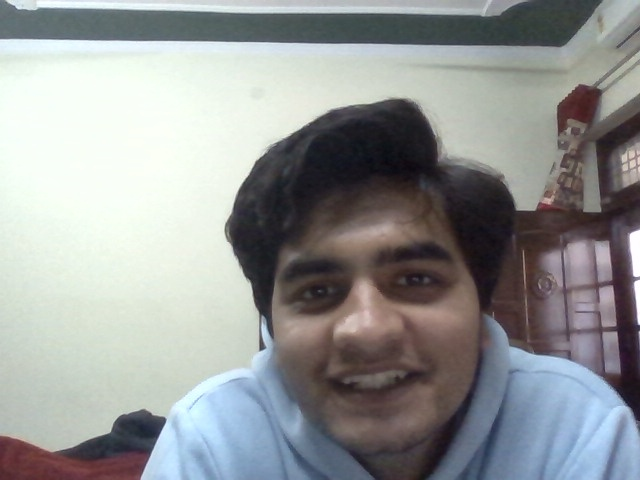joy: (281, 242, 466, 423)
open Eye: (378, 255, 457, 306), (283, 271, 354, 311)
